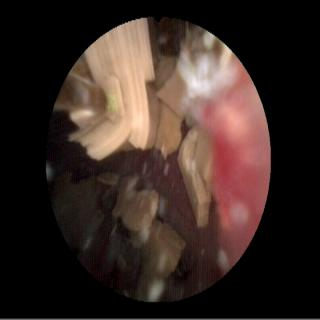stone: (57, 19, 197, 161), (97, 174, 186, 298), (56, 172, 102, 248), (178, 127, 212, 226)
tissue: (136, 65, 263, 292)
